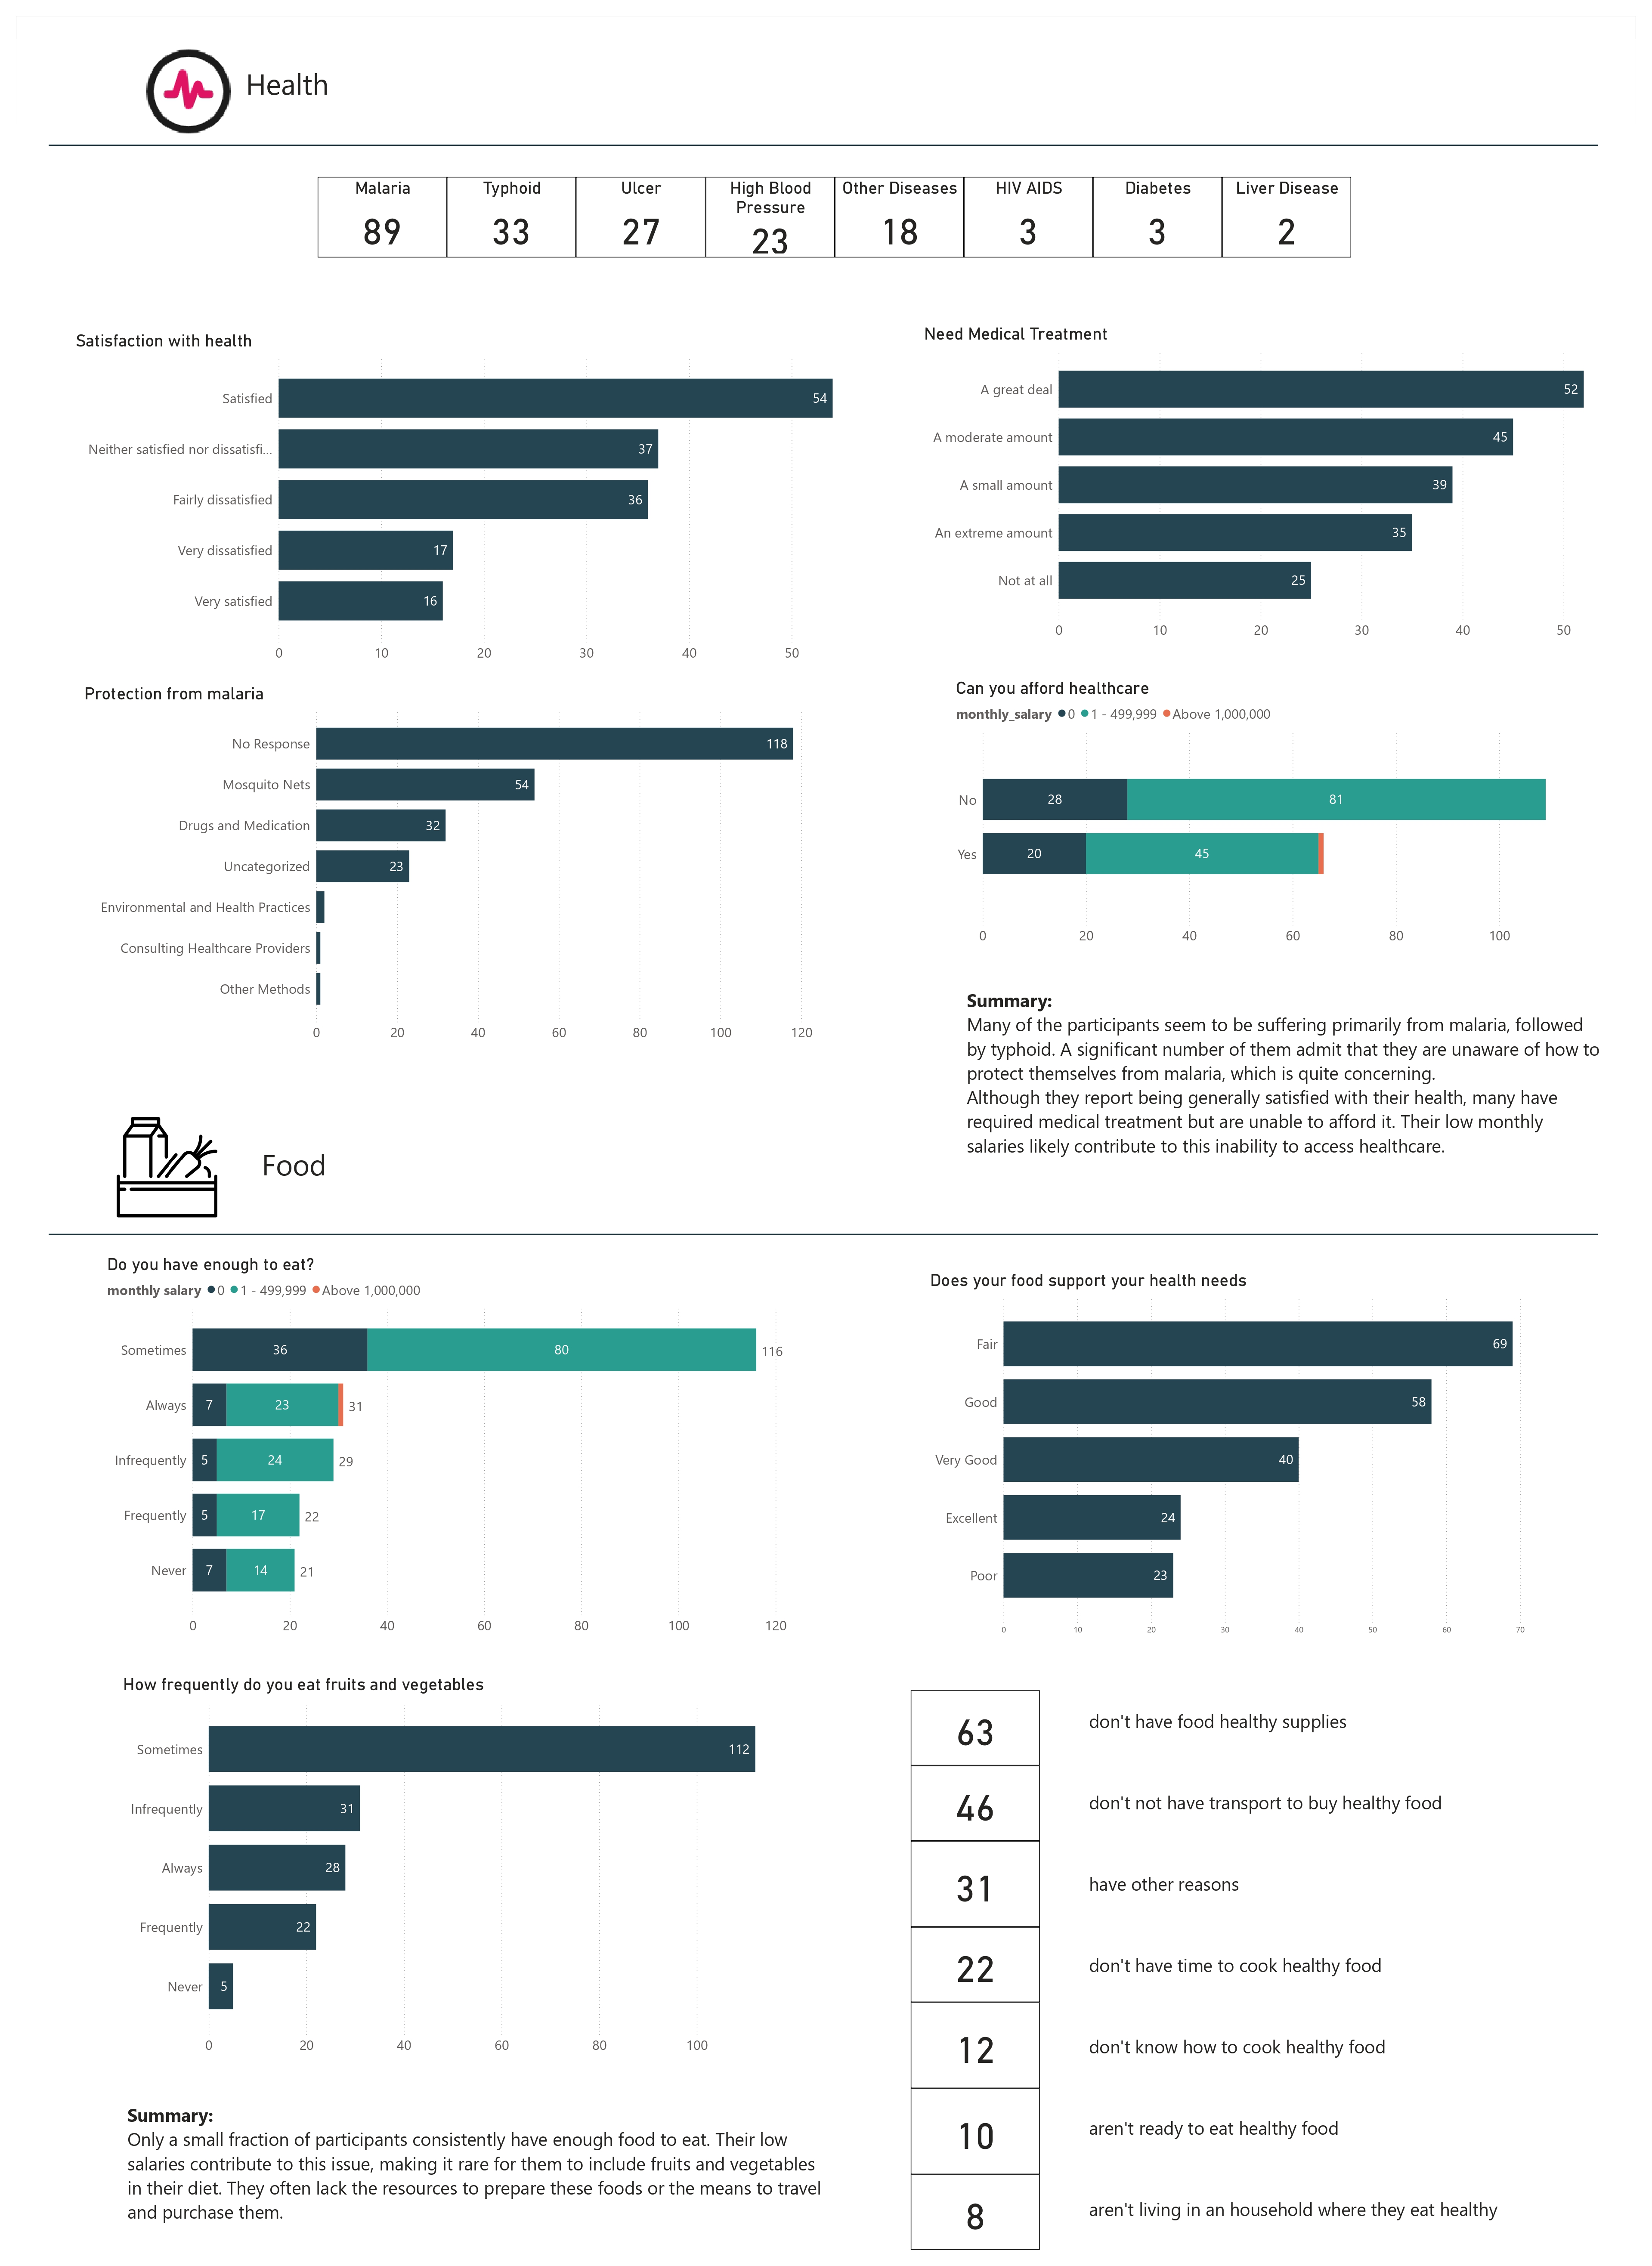

The dashboard page shown, as its layout file describes it:
{"tool":"powerbi","page":{"name":"Health&Food","canvas":[2408,3322],"ordinal":1},"visuals":[{"type":"card","title":"High Blood Pressure","fields":{"Values":["CountNonNull(vsfg_gdri int_health_and_wellbeing.health_disorder_high_blood_pressure)"]},"box":[1024.5,239,192,120],"z":0},{"type":"card","title":"HIV AIDS","fields":{"Values":["CountNonNull(vsfg_gdri int_health_and_wellbeing.health_disorder_hiv_aids)"]},"box":[1408.5,239,192,120],"z":1000},{"type":"card","title":"Malaria","fields":{"Values":["CountNonNull(vsfg_gdri int_health_and_wellbeing.health_disorder_malaria)"]},"box":[448.5,239,192,120],"z":2000},{"type":"card","title":"Other Diseases","fields":{"Values":["CountNonNull(vsfg_gdri int_health_and_wellbeing.health_disorder_other)"]},"box":[1216.5,239,192,120],"z":3000},{"type":"card","title":"Typhoid","fields":{"Values":["CountNonNull(vsfg_gdri int_health_and_wellbeing.health_disorder_typhoid)"]},"box":[640.5,239,192,120],"z":4000},{"type":"card","title":"Ulcer","fields":{"Values":["CountNonNull(vsfg_gdri int_health_and_wellbeing.health_disorder_ulcers)"]},"box":[832.5,239,192,120],"z":5000},{"type":"card","title":"Diabetes","fields":{"Values":["CountNonNull(vsfg_gdri int_health_and_wellbeing.health_disorder_diabetes)"]},"box":[1600.5,239,192,120],"z":6000},{"type":"card","title":"Liver Disease","fields":{"Values":["CountNonNull(vsfg_gdri int_health_and_wellbeing.health_disorder_liver_disease)"]},"box":[1792.5,239,192,120],"z":7000},{"type":"barChart","title":"Satisfaction with health","fields":{"Category":["vsfg_gdri int_health_and_wellbeing.satisfaction_with_health"],"Y":["CountNonNull(vsfg_gdri int_health_and_wellbeing.satisfaction_with_health)"]},"box":[83,467,1176,504],"z":8000},{"type":"barChart","title":"Can you afford healthcare","fields":{"Category":["vsfg_gdri int_health_and_wellbeing.can_afford_healthcare"],"Y":["CountNonNull(vsfg_gdri int_health_and_wellbeing.can_afford_healthcare)"],"Series":["vsfg_gdri int_personal_information.monthly_salary"]},"box":[1392,984,912,408],"z":9000},{"type":"barChart","title":"Do you have enough to eat?","fields":{"Category":["vsfg_gdri int_health_and_wellbeing.enough_to_eat"],"Y":["CountNonNull(vsfg_gdri int_health_and_wellbeing.enough_to_eat)"],"Series":["vsfg_gdri int_personal_information.monthly_salary"]},"box":[130,1841.5,1032,576],"z":10000},{"type":"barChart","title":"Need Medical Treatment","fields":{"Category":["vsfg_gdri int_health_and_wellbeing.need_medical_treatment"],"Y":["CountNonNull(vsfg_gdri int_health_and_wellbeing.need_medical_treatment)"]},"box":[1344.5,457.5,1032,480],"z":11000},{"type":"barChart","title":"Protection from malaria","fields":{"Category":["vsfg_gdri int_health_and_wellbeing.protect_from_malaria"],"Y":["CountNonNull(vsfg_gdri int_health_and_wellbeing.protect_from_malaria)"]},"box":[96,992,1120,544],"z":12000},{"type":"card","title":"No Cooking Knowledge","fields":{"Values":["CountNonNull(vsfg_gdri int_health_and_wellbeing.reason_not_eating_healthy_cooking_knowledge)"]},"box":[1330,2953.5,192,128],"z":13000},{"type":"card","title":"No Cooking Knowledge","fields":{"Values":["CountNonNull(vsfg_gdri int_health_and_wellbeing.reason_not_eating_healthy_household)"]},"box":[1330,3209.5,192,112],"z":14000},{"type":"card","title":"No Cooking Knowledge","fields":{"Values":["CountNonNull(vsfg_gdri int_health_and_wellbeing.reason_not_eating_healthy_not_ready)"]},"box":[1330,3081.5,192,128],"z":15000},{"type":"card","title":"No Cooking Knowledge","fields":{"Values":["CountNonNull(vsfg_gdri int_health_and_wellbeing.reason_not_eating_healthy_other)"]},"box":[1330,2713.5,192,128],"z":16000},{"type":"card","title":"No Cooking Knowledge","fields":{"Values":["CountNonNull(vsfg_gdri int_health_and_wellbeing.reason_not_eating_healthy_supplies_equipment)"]},"box":[1330,2489.5,192,112],"z":17000},{"type":"card","title":"No Cooking Knowledge","fields":{"Values":["CountNonNull(vsfg_gdri int_health_and_wellbeing.reason_not_eating_healthy_time)"]},"box":[1330,2841.5,192,112],"z":18000},{"type":"card","title":"No Cooking Knowledge","fields":{"Values":["CountNonNull(vsfg_gdri int_health_and_wellbeing.reason_not_eating_healthy_transportation)"]},"box":[1330,2601.5,192,112],"z":19000},{"type":"barChart","title":"Does your food support your health needs","fields":{"Category":["vsfg_gdri int_health_and_wellbeing.food_supports_health_needs"],"Y":["CountNonNull(vsfg_gdri int_health_and_wellbeing.food_supports_health_needs)"]},"box":[1354,1865.5,912,552],"z":20000},{"type":"barChart","title":"How frequently do you eat fruits and vegetables","fields":{"Category":["vsfg_gdri int_health_and_wellbeing.frequency_of_eating_fresh_fruit_vegetables"],"Y":["CountNonNull(vsfg_gdri int_health_and_wellbeing.frequency_of_eating_fresh_fruit_vegetables)"]},"box":[154,2465.5,1008,576],"z":21000},{"type":"textbox","box":[1589.7,2512,704,800],"z":22000},{"type":"shape","box":[48,1704,2304,216],"z":23000},{"type":"image","box":[128,32,256,160],"z":24000},{"type":"textbox","box":[336,32,185,160],"z":25000},{"type":"image","box":[128,1632,192,160],"z":26000},{"type":"textbox","box":[360,1656,528,96],"z":27000},{"type":"shape","box":[48,168,2304,48],"z":28000},{"type":"textbox","box":[1408,1440,960,320],"z":29000},{"type":"textbox","box":[160,3098,1056,224],"z":31000}]}

Visuals, with their boxes in screenshot pixels (x1, y1, x2, y2):
"High Blood Pressure" card: box(705, 177, 835, 257)
"HIV AIDS" card: box(964, 177, 1093, 257)
"Malaria" card: box(318, 177, 447, 257)
"Other Diseases" card: box(835, 177, 964, 257)
"Typhoid" card: box(447, 177, 576, 257)
"Ulcer" card: box(576, 177, 705, 257)
"Diabetes" card: box(1093, 177, 1222, 257)
"Liver Disease" card: box(1222, 177, 1351, 257)
"Satisfaction with health" barChart: box(72, 330, 863, 669)
"Can you afford healthcare" barChart: box(953, 678, 1566, 952)
"Do you have enough to eat?" barChart: box(104, 1254, 798, 1642)
"Need Medical Treatment" barChart: box(921, 324, 1615, 646)
"Protection from malaria" barChart: box(81, 683, 834, 1049)
"No Cooking Knowledge" card: box(911, 2002, 1040, 2088)
"No Cooking Knowledge" card: box(911, 2174, 1040, 2250)
"No Cooking Knowledge" card: box(911, 2088, 1040, 2174)
"No Cooking Knowledge" card: box(911, 1841, 1040, 1927)
"No Cooking Knowledge" card: box(911, 1690, 1040, 1765)
"No Cooking Knowledge" card: box(911, 1927, 1040, 2002)
"No Cooking Knowledge" card: box(911, 1765, 1040, 1841)
"Does your food support your health needs" barChart: box(927, 1271, 1541, 1642)
"How frequently do you eat fruits and vegetables" barChart: box(120, 1674, 798, 2061)
textbox: box(1086, 1705, 1559, 2243)
shape: box(49, 1162, 1598, 1307)
image: box(102, 37, 275, 145)
textbox: box(242, 37, 367, 145)
image: box(102, 1113, 232, 1221)
textbox: box(258, 1130, 613, 1194)
shape: box(49, 129, 1598, 161)
textbox: box(963, 984, 1609, 1199)
textbox: box(124, 2099, 834, 2250)
